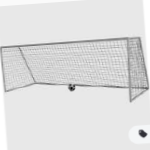goals: (1, 36, 150, 104)
